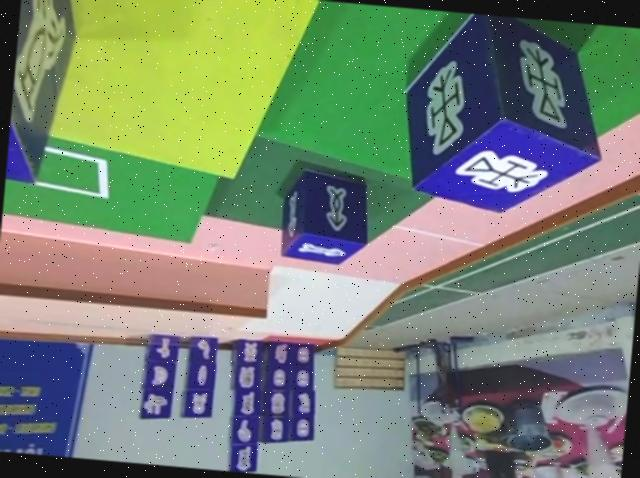R2 Real Blue: (392, 7, 608, 224), (4, 0, 76, 187), (278, 164, 374, 266)
